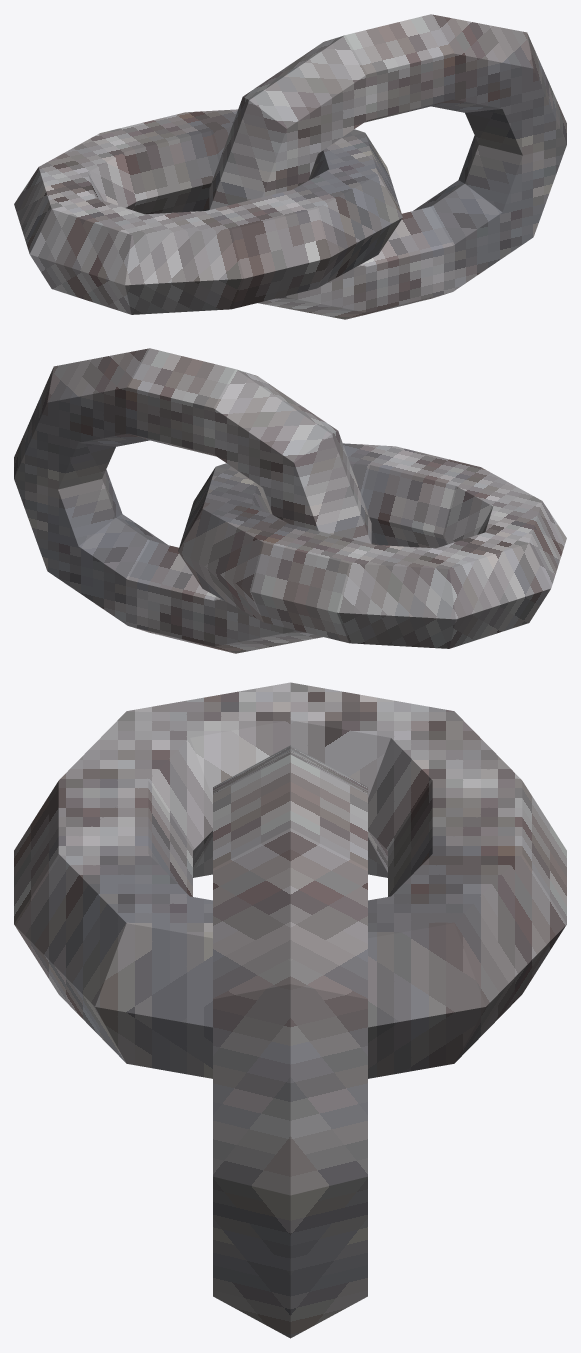
Rendered from Kette-2.fbx.
The picture shows the model from 3 angles, top to bottom: view 1: azimuth 30°, elevation 25°; view 2: azimuth 150°, elevation 25°; view 3: azimuth 270°, elevation 25°; orthographic projection. The views are drawn at different scales.
Parts seen in each view (by area): view 1: Kette; view 2: Kette; view 3: Kette.
Boxes of the visible parts, x1,y1,x2,y2 form: Kette: (14, 14, 566, 319); Kette: (14, 348, 566, 653); Kette: (14, 682, 566, 1338).
Bounding box in the file's own units: 158 × 79.84 × 79.84.
Materials: 1 (1 with a texture image).
